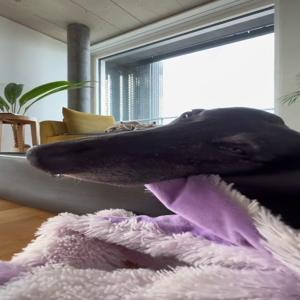nasal_discharge: (43, 160, 67, 185)
